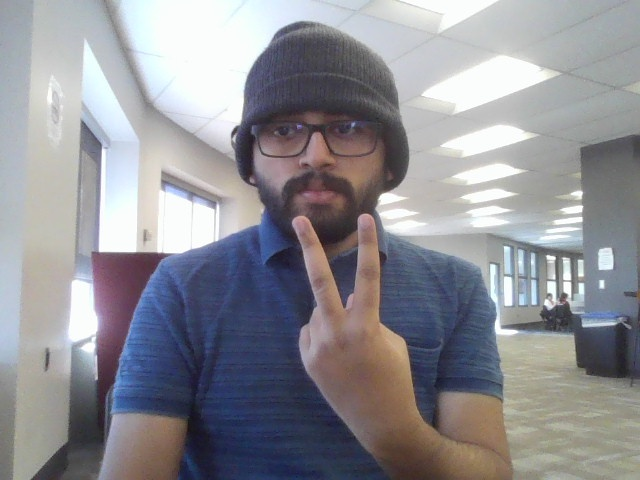start: (272, 201, 431, 438)
